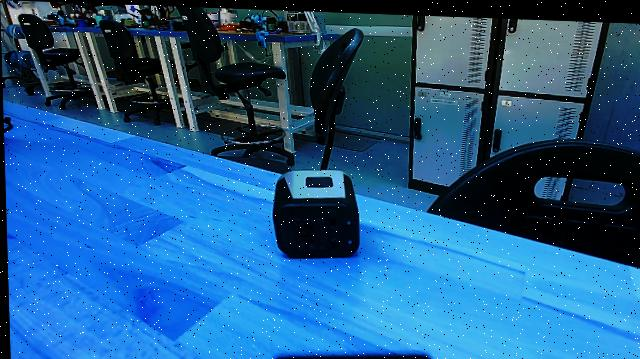adapter: (262, 160, 364, 264)
